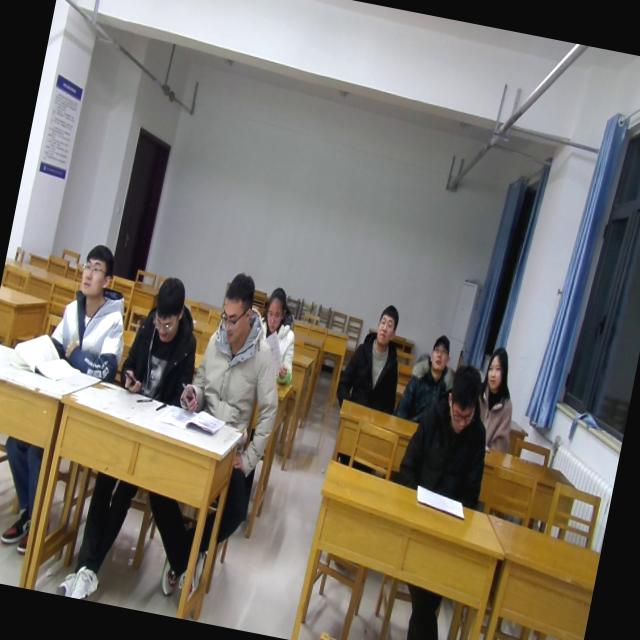down: (436, 356, 488, 444), (210, 264, 262, 350), (143, 271, 192, 348), (257, 278, 295, 338)
lookup: (72, 237, 120, 306), (478, 340, 518, 398), (422, 328, 458, 382), (368, 295, 402, 351)
sit: (175, 266, 301, 433), (392, 354, 505, 511), (43, 237, 142, 388), (115, 270, 211, 410), (333, 297, 415, 415), (392, 329, 467, 429), (467, 342, 527, 456), (248, 284, 310, 388)
